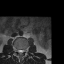CCS_normal: (20, 47, 21, 56)
LFS_normal: (23, 47, 25, 53)
LLS_normal: (21, 47, 23, 54)
RFS_normal: (16, 46, 18, 53)
RLS_normal: (18, 47, 19, 54)
